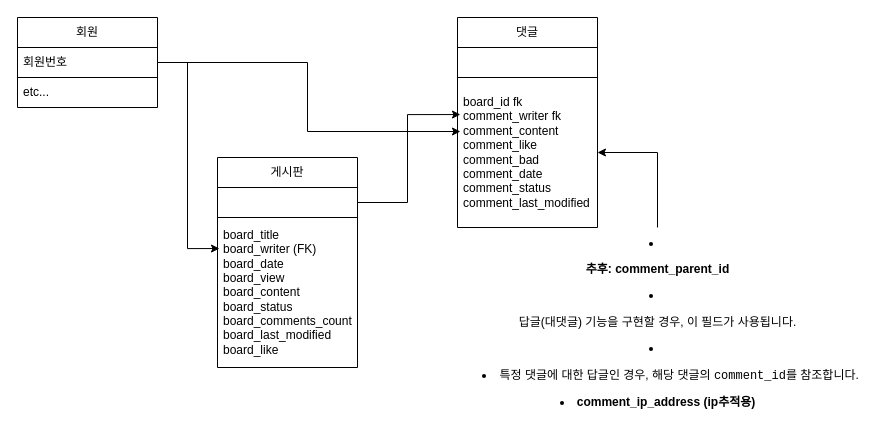
Image size: 895x435. Some labels were removed from this diagram. Here are the shapes that lost their labels. From the top down, the box of each, then its label:
(456, 46, 598, 78): comment_id pk int
(216, 186, 358, 218): board_id pk int
